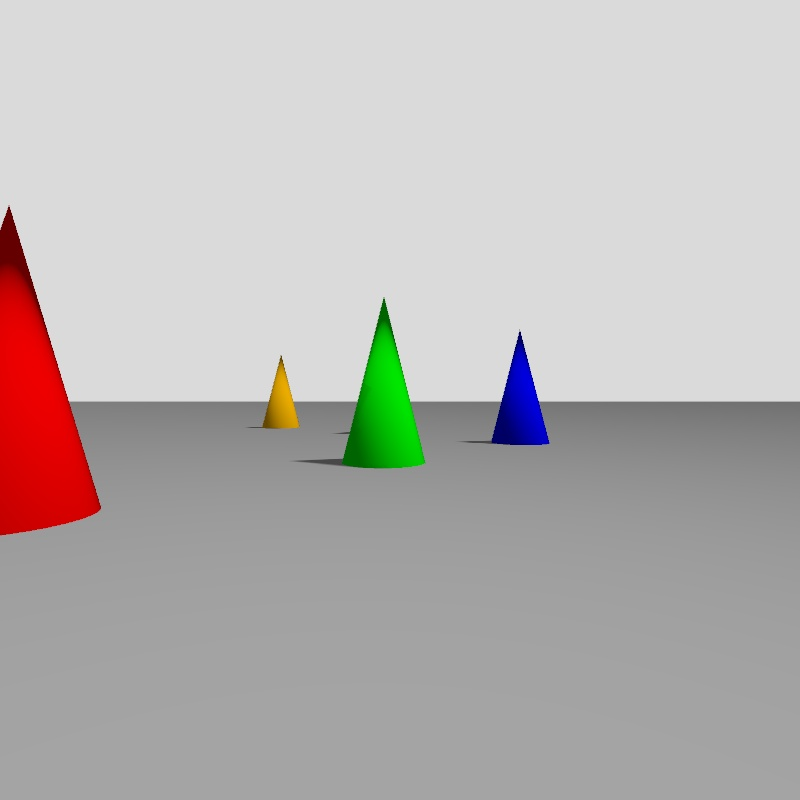Blue_cone: (493, 332, 548, 443)
Green_cone: (342, 299, 424, 468)
Red_cone: (0, 208, 100, 534)
Yellow_cone: (262, 357, 299, 428)
